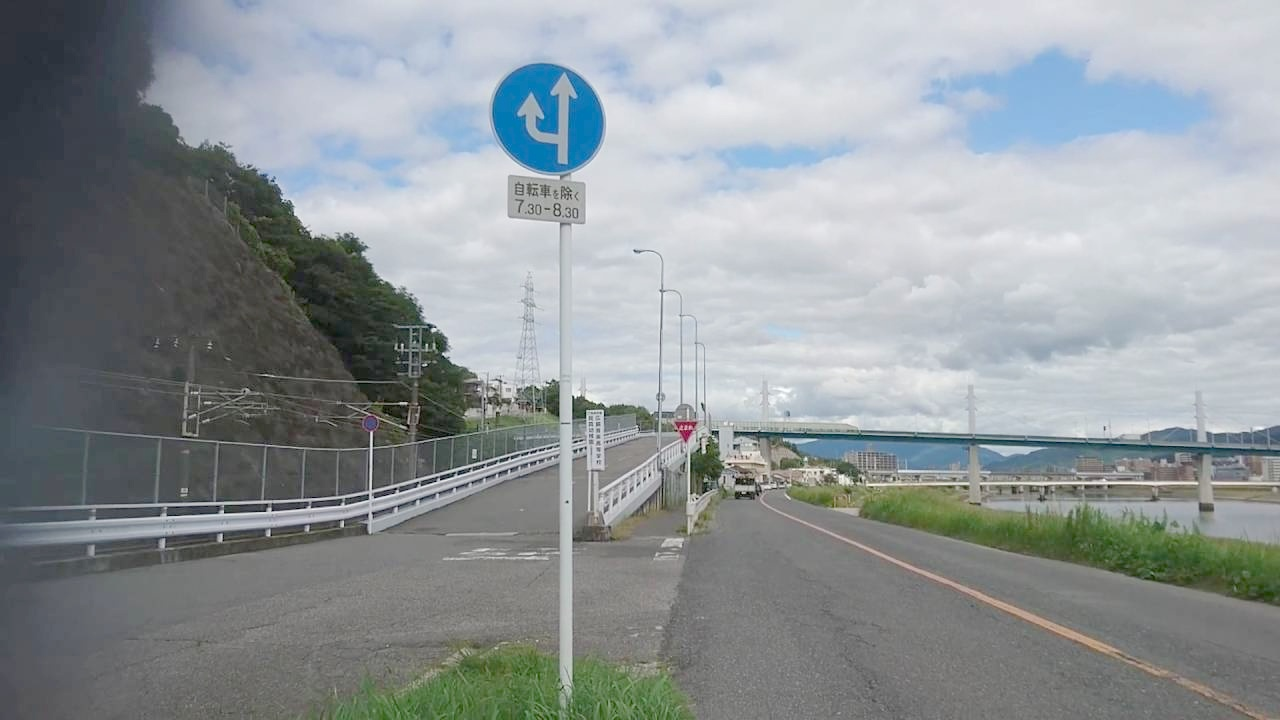Direction_sign: (474, 47, 617, 192)
